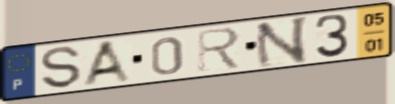0: (149, 35, 188, 77)
3: (312, 13, 352, 60)
A: (80, 38, 136, 87)
N: (253, 14, 311, 71)
R: (195, 25, 244, 74)
S: (39, 45, 84, 90)
